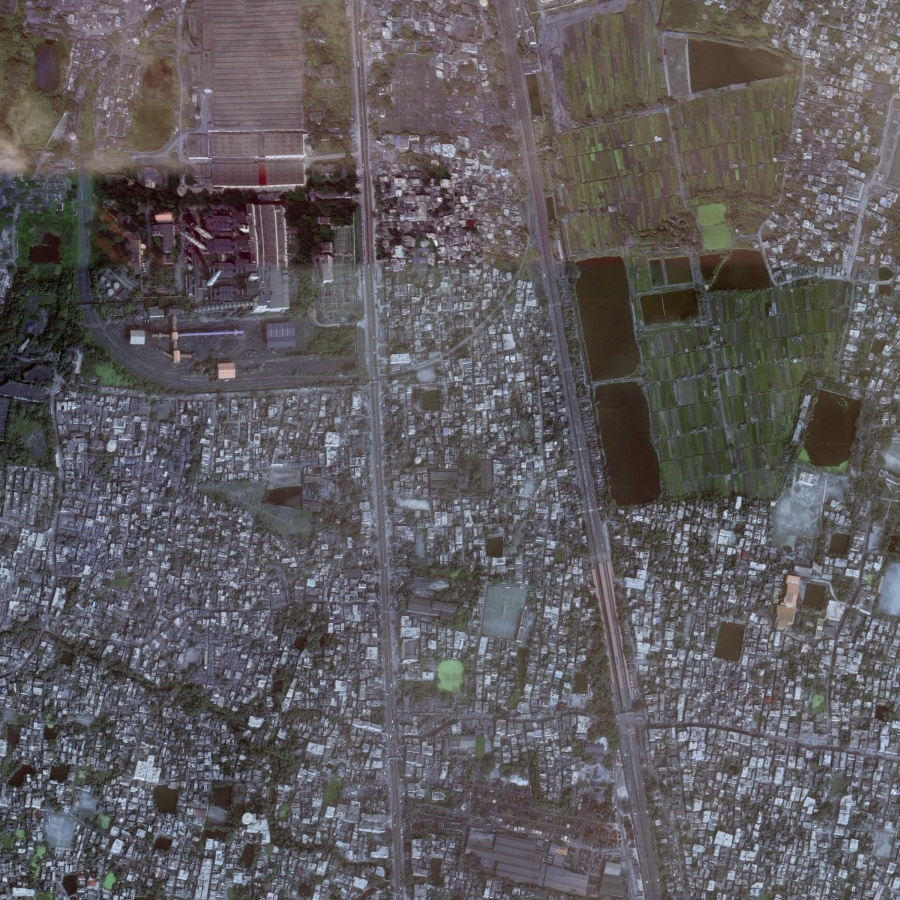PowerPlant: (84, 139, 329, 378)
